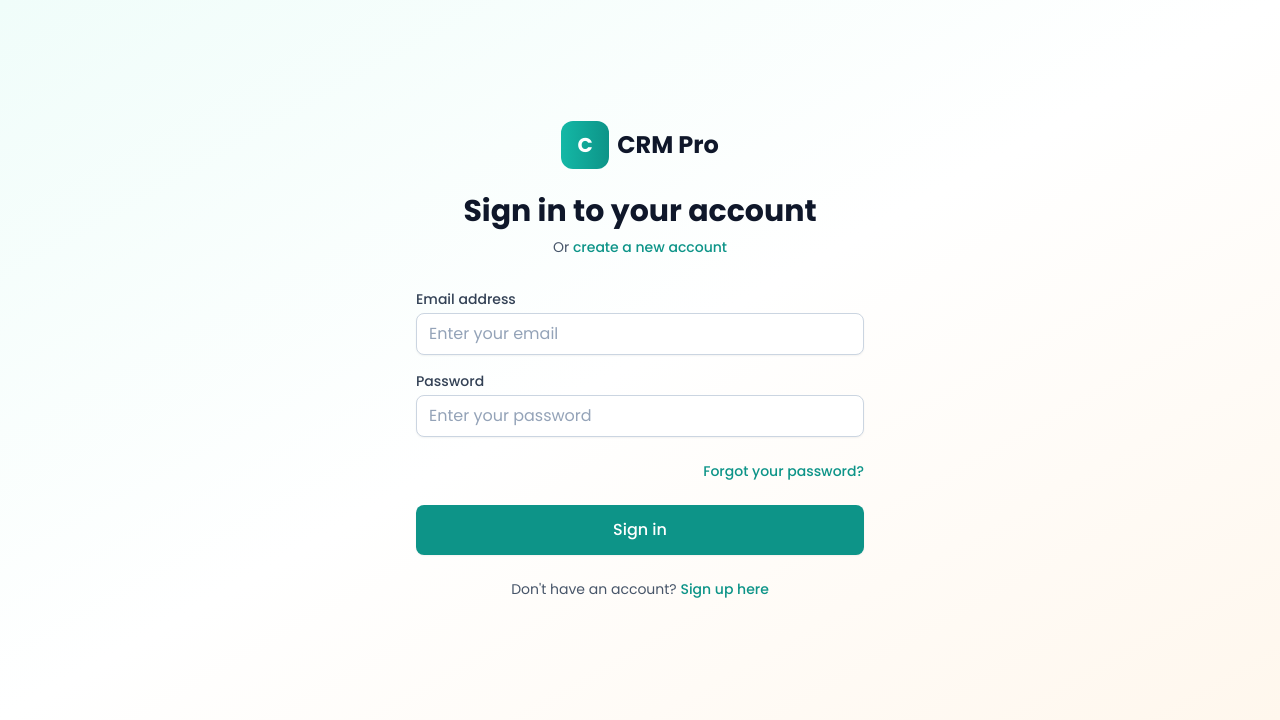
Test case: LoginForm › shows loading state when submitting
// Fill in valid form data
Type "test@example.com" into the field labelled "Email address" at (640, 334), box [416,313,864,355]
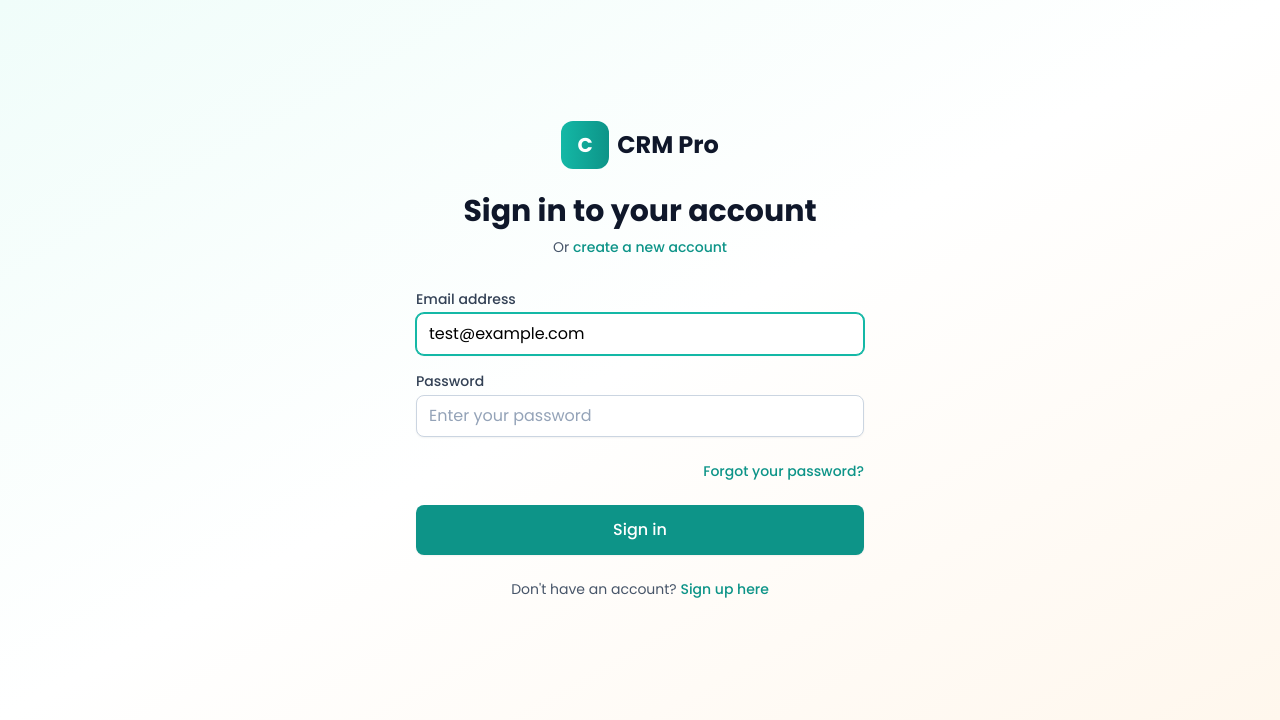
Type "password123" into the password field labelled "Password" at (640, 416), box [416,395,864,437]
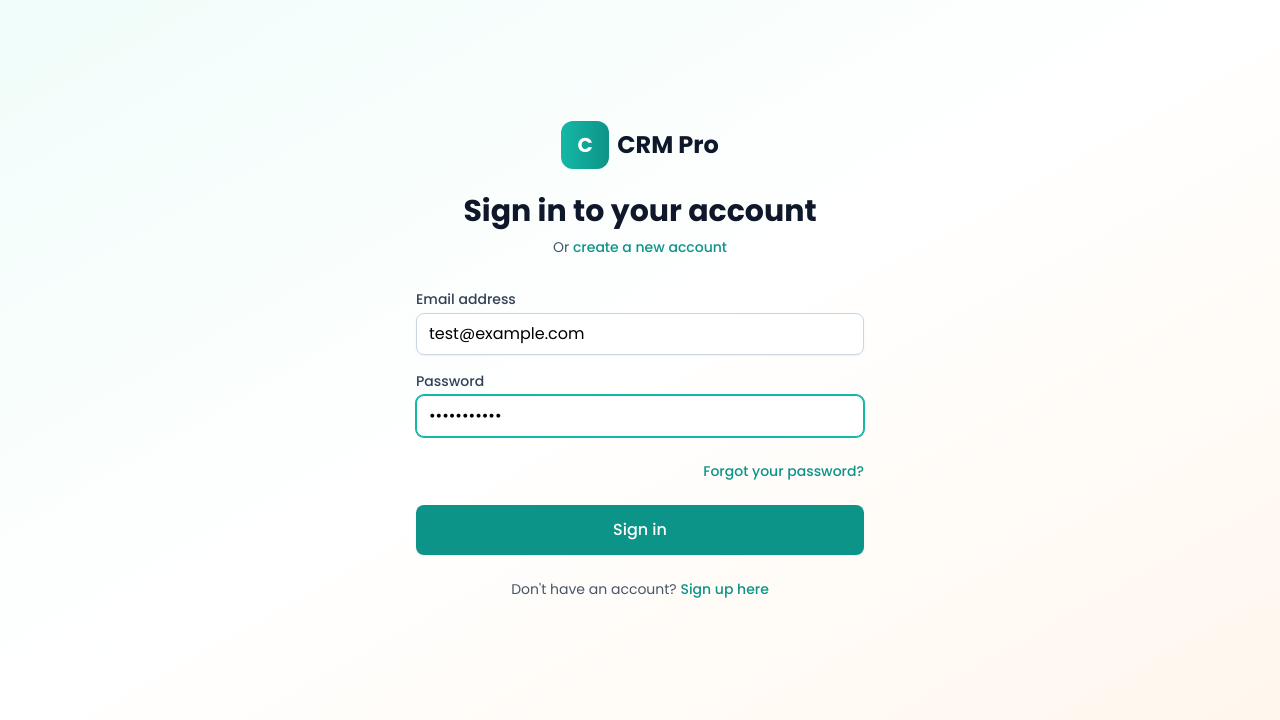
// Submit form to trigger loading state
Click the button "Sign in" at (640, 530), box [416,505,864,555]
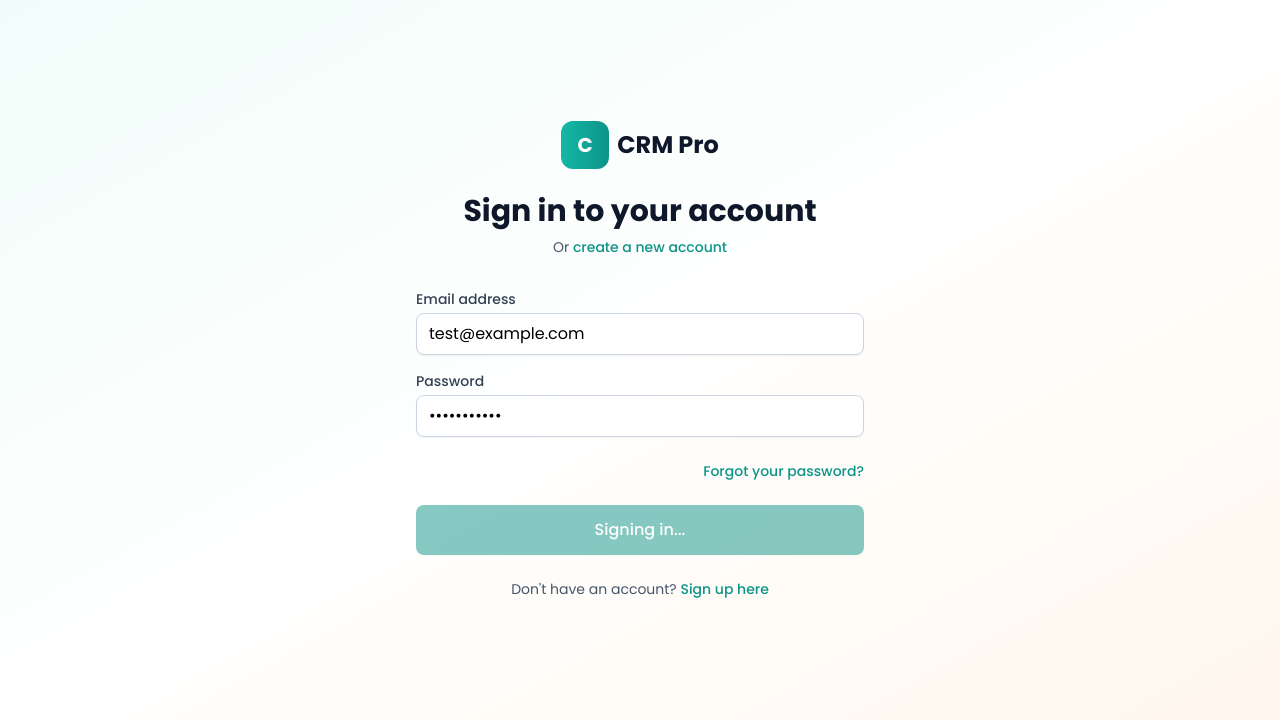
Now the button "Signing in..." is disabled, box [416,505,864,555]
